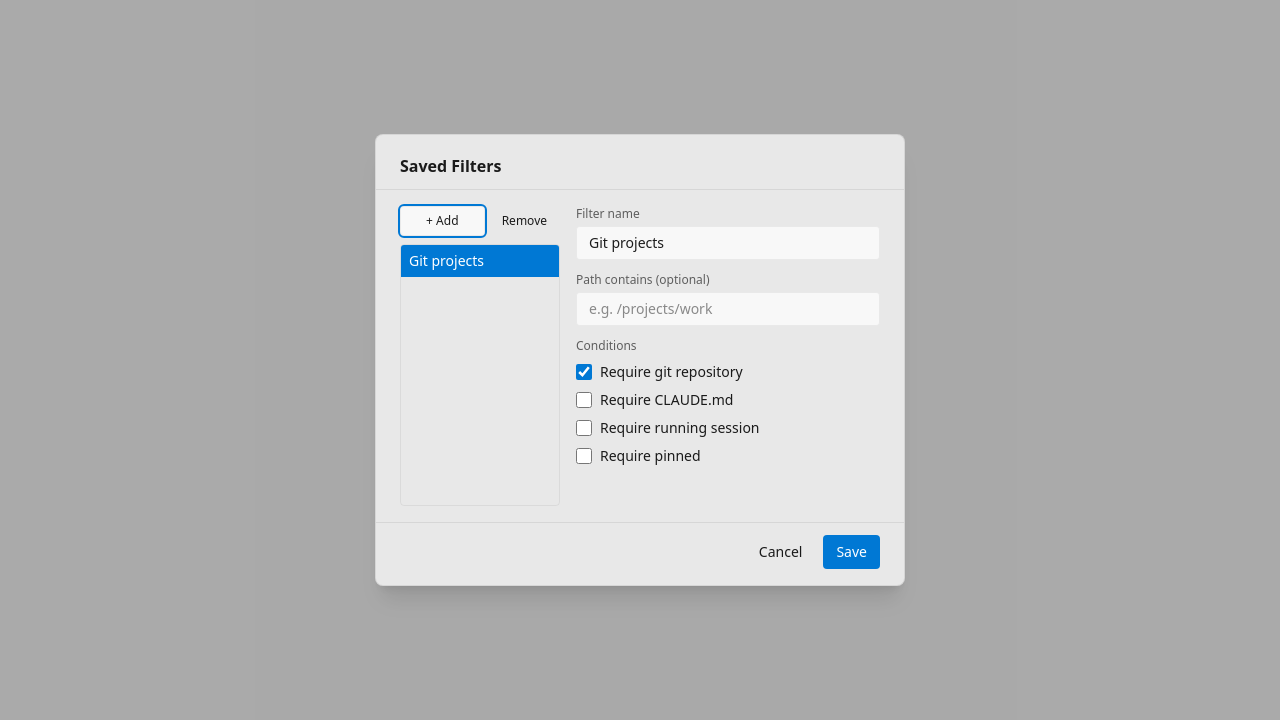
Scenario: SavedFilterDialog › can remove a filter
Expected: the option "Git projects" is shown, [401,245,559,277]
Click the button "Remove": click(524, 221) [489,206,560,236]
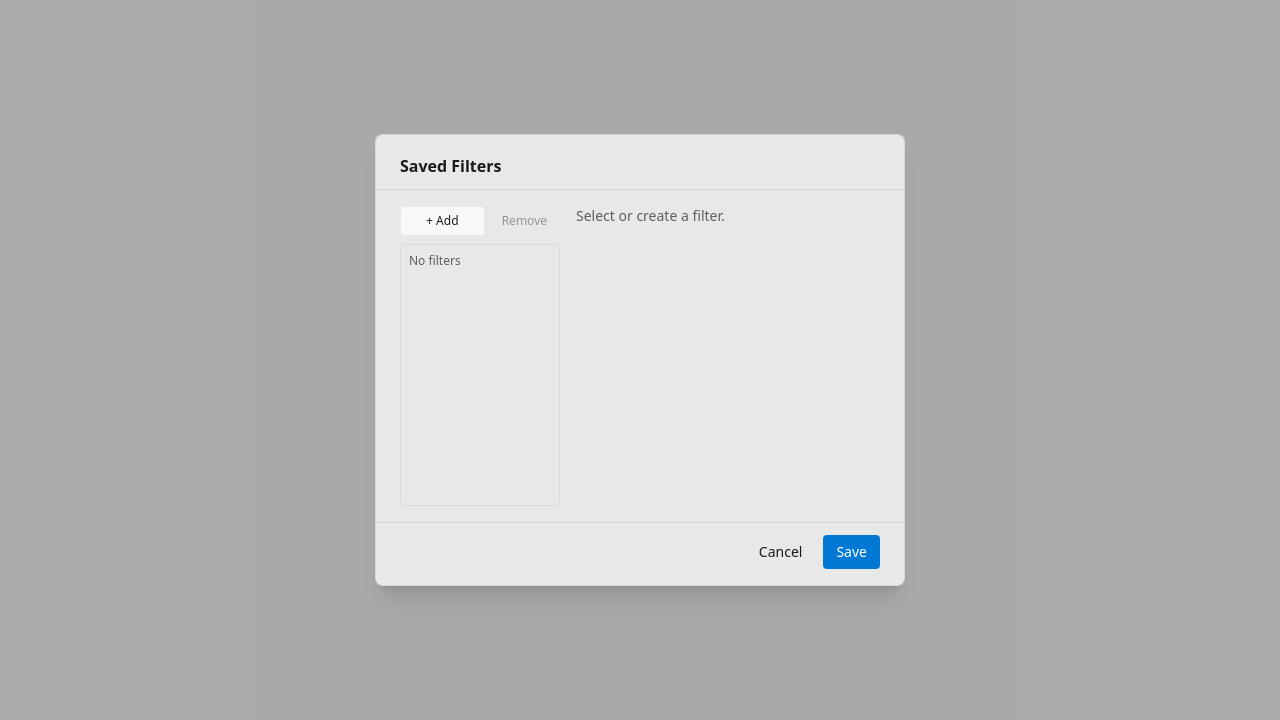
Now the option "Git projects" is gone
